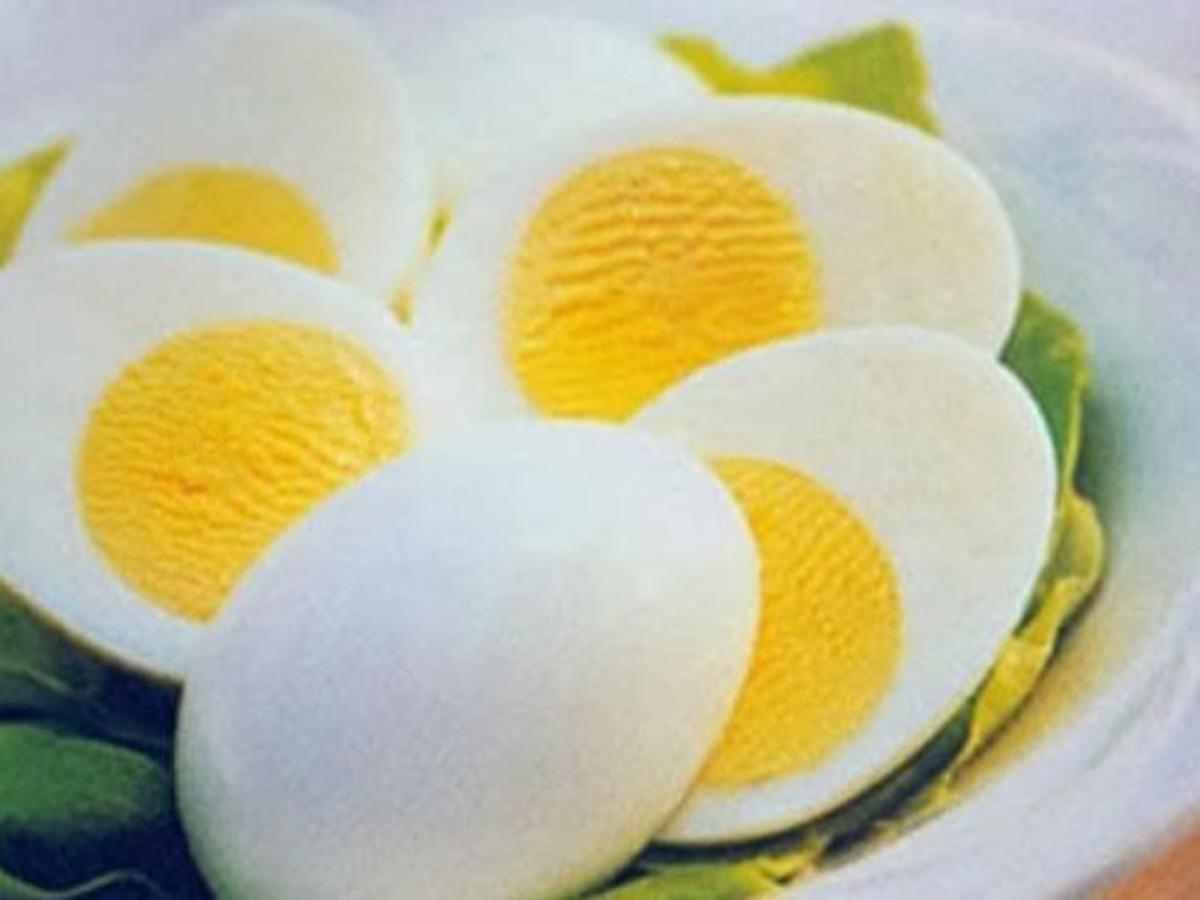Telur: (175, 401, 712, 900), (599, 294, 1063, 779), (434, 51, 974, 441), (5, 273, 391, 665), (53, 57, 443, 285)
